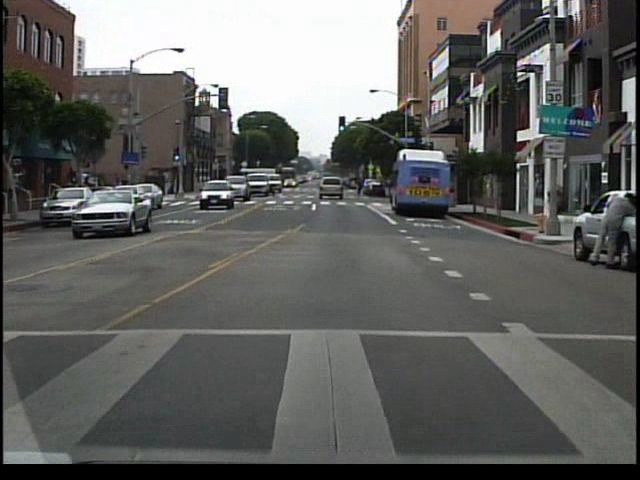person: (580, 184, 636, 268)
